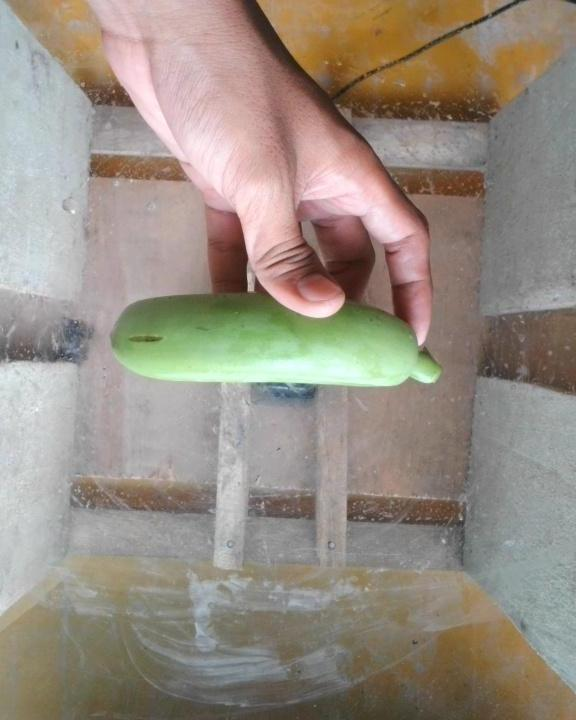CLASS B: (108, 282, 458, 398)
Class A: (122, 315, 177, 356)
